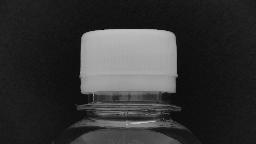Loose Cap: (72, 70, 186, 116)
